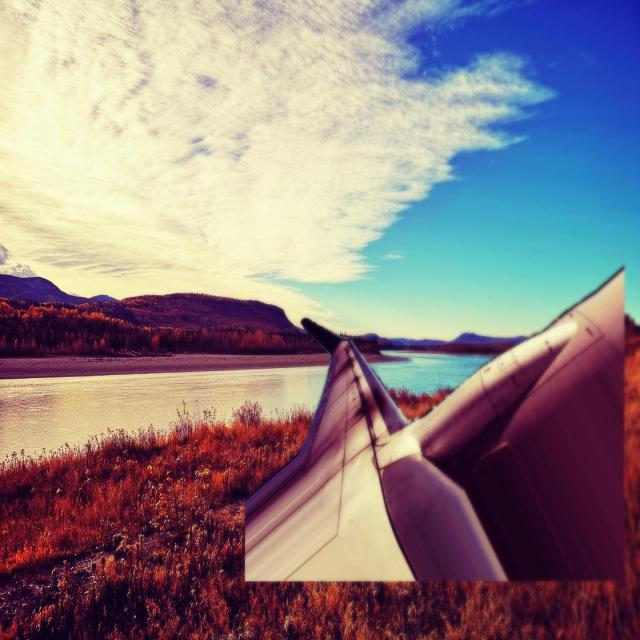airplane: (242, 264, 626, 583)
